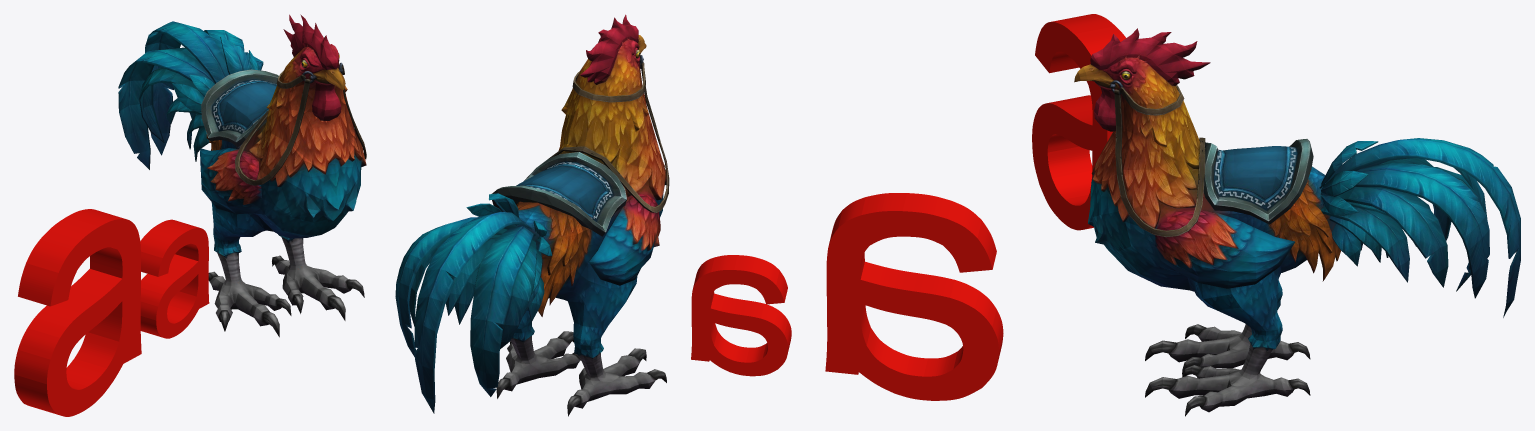
3 renders of one model, left to right at view 1: azimuth 30°, elevation 25°; view 2: azimuth 150°, elevation 25°; view 3: azimuth 270°, elevation 25°, orthographic. The views are drawn at different scales.
Parts seen in each view (by area): view 1: LB3EW6F74B16YR74MP0J6J900, Uploads Files 1950256 A.001, Uploads Files 1950256 A; view 2: LB3EW6F74B16YR74MP0J6J900, Uploads Files 1950256 A.001, Uploads Files 1950256 A; view 3: LB3EW6F74B16YR74MP0J6J900, Uploads Files 1950256 A.001.
Part boxes in pixels (x1,y1,x2,y2): LB3EW6F74B16YR74MP0J6J900: (118,14,366,337); Uploads Files 1950256 A.001: (14,209,141,416); Uploads Files 1950256 A: (140,219,209,338); LB3EW6F74B16YR74MP0J6J900: (395,14,669,416); Uploads Files 1950256 A.001: (825,193,1003,400); Uploads Files 1950256 A: (691,255,791,376); LB3EW6F74B16YR74MP0J6J900: (1074,28,1520,416); Uploads Files 1950256 A.001: (1032,14,1125,230).
Bounding box in the file's own units: 38.39 × 28.4 × 35.77.
2 materials, 1 textured.
